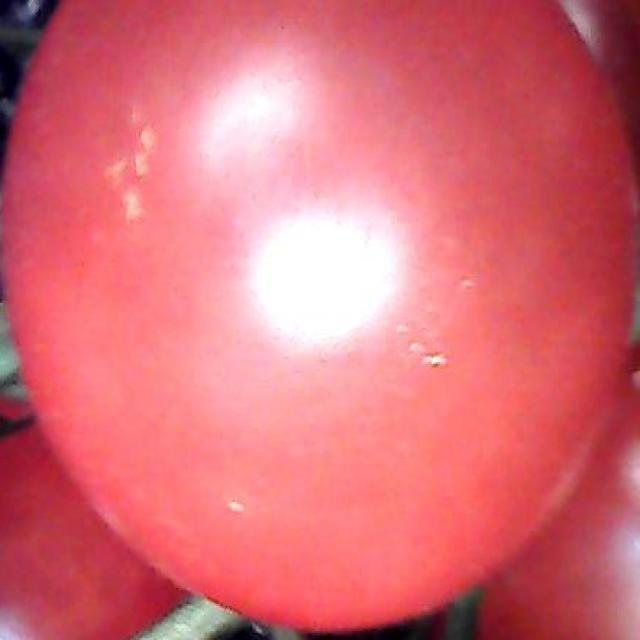Healthy Fruit: (16, 7, 427, 422)
